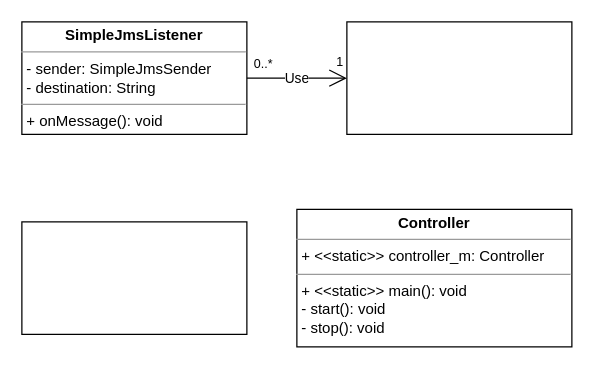
This 594x369 diagram has some shape labels left out. The shapes that lost their labels are listed below. From the top down, each one's centre as x and y in pixels, then its label:
(459,77): SimpleJmsSender - jmsTemplate: JmsTemplate - queueName: String + send(): void
(134,277): JmsExceptionListener + onException(): void
